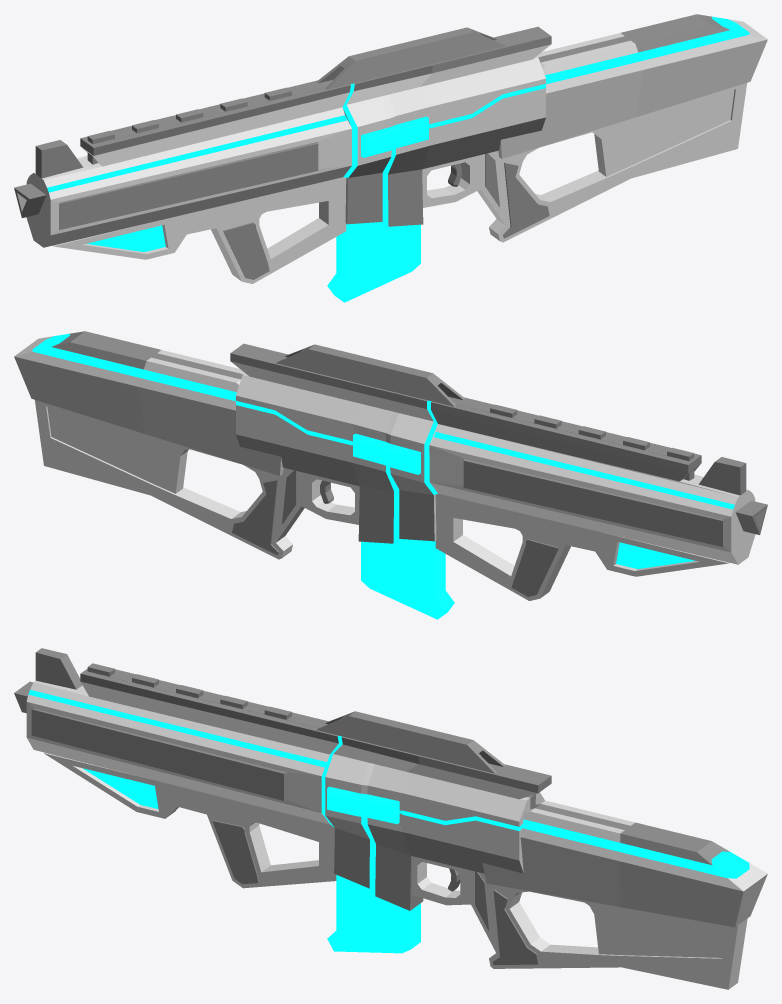
File: Rifle.fbx
The picture shows the model from 3 angles, top to bottom: view 1: azimuth 30°, elevation 25°; view 2: azimuth 150°, elevation 25°; view 3: azimuth 330°, elevation 25°; orthographic projection.
Parts seen in each view (by area): view 1: Rifle, Mag; view 2: Rifle, Mag; view 3: Rifle, Mag.
Boxes of the visible parts, <box> form: Rifle: <box>14,14,767,283</box>; Mag: <box>327,222,420,302</box>; Rifle: <box>14,331,767,600</box>; Mag: <box>361,539,454,619</box>; Rifle: <box>14,648,767,989</box>; Mag: <box>327,875,420,953</box>.
Size of the model in its own units: 265 by 81.85 by 24.87.
